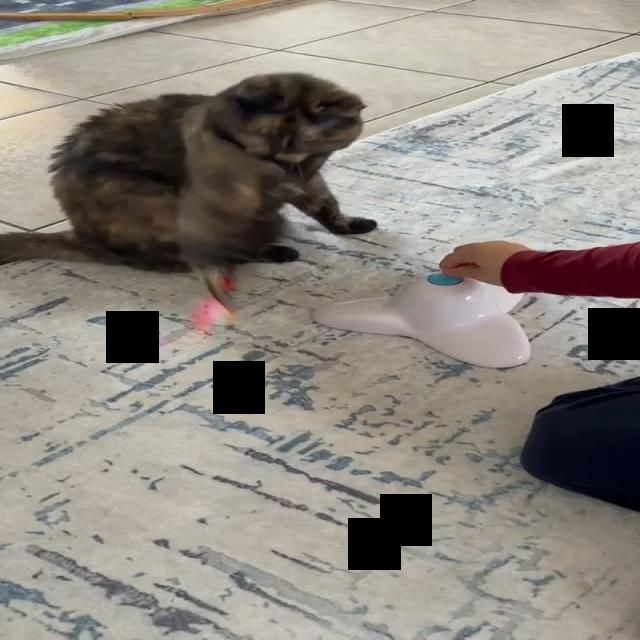authorized: (0, 71, 379, 276)
